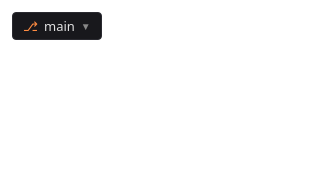
Test: BranchSelector › lists branches and switches active branch
Later steps or results of the test are not shown.
Click the button "⎇ main ▼" at (57, 26), box [12, 12, 102, 40]
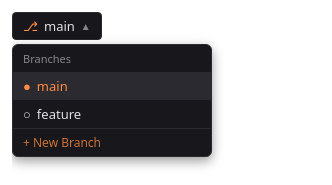
Expected: the text "feature" is shown, [37, 105, 81, 123]
